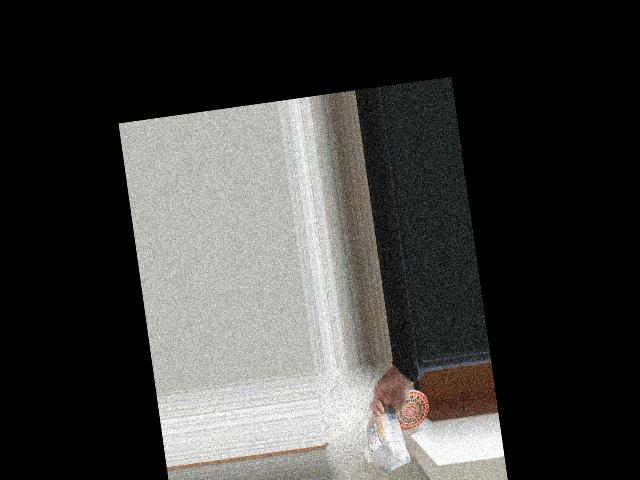cheese: (363, 405, 408, 475)
